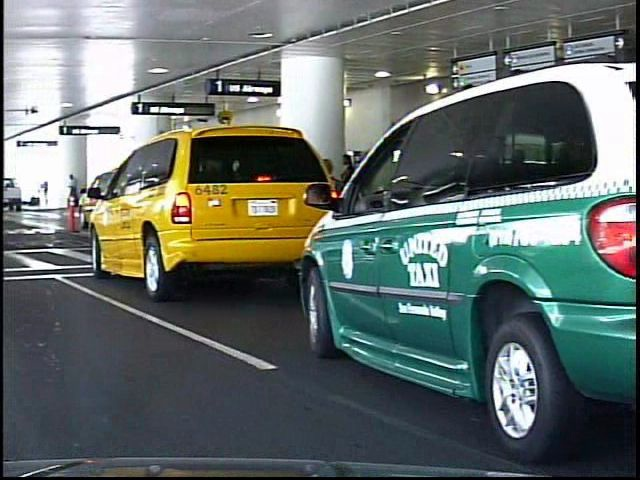person: (62, 174, 75, 195)
